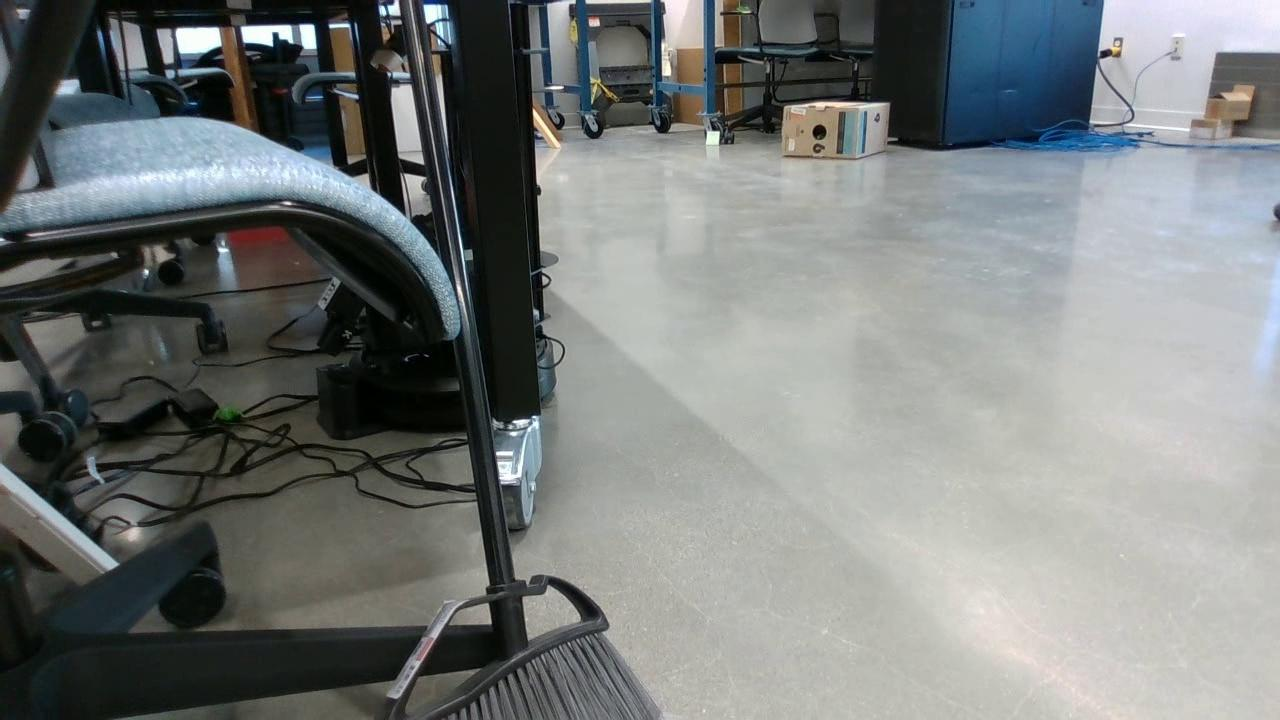grasshopper: (210, 408, 248, 420)
